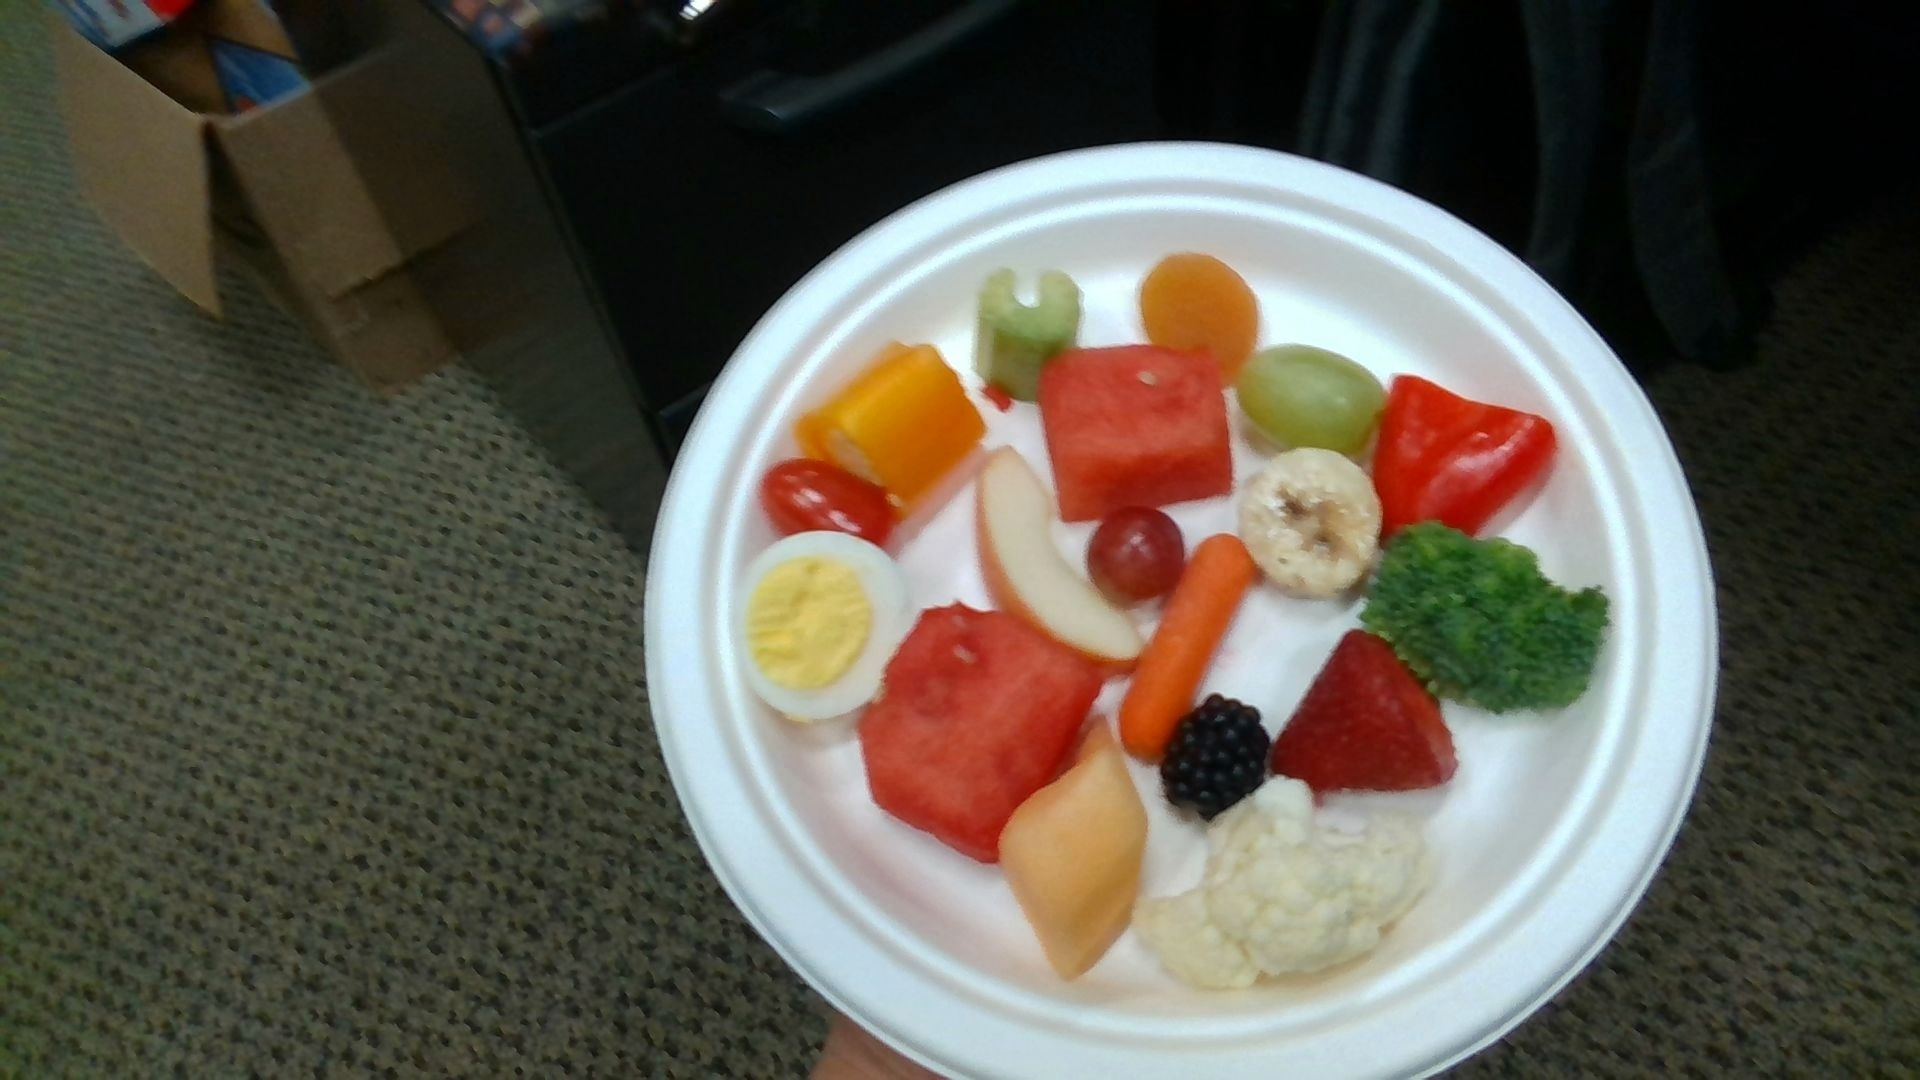apple: (975, 450, 1142, 666)
apricot: (1139, 255, 1257, 356)
banana: (1240, 450, 1382, 595)
bell_pepper: (1377, 376, 1555, 543), (799, 345, 985, 502)
blackberry: (1164, 698, 1270, 815)
broccoli: (1367, 525, 1605, 705)
cantalope: (1002, 716, 1145, 973)
carrot: (1120, 538, 1257, 758)
cauliflower: (1135, 781, 1427, 982)
celery: (980, 268, 1079, 398)
cherry_tomato: (764, 463, 895, 549)
egg: (735, 531, 909, 721)
grape_green: (1237, 345, 1382, 451)
grape_purple: (1091, 508, 1184, 605)
melon: (862, 608, 1100, 861), (1040, 345, 1230, 518)
strawberry: (1273, 633, 1455, 790)
